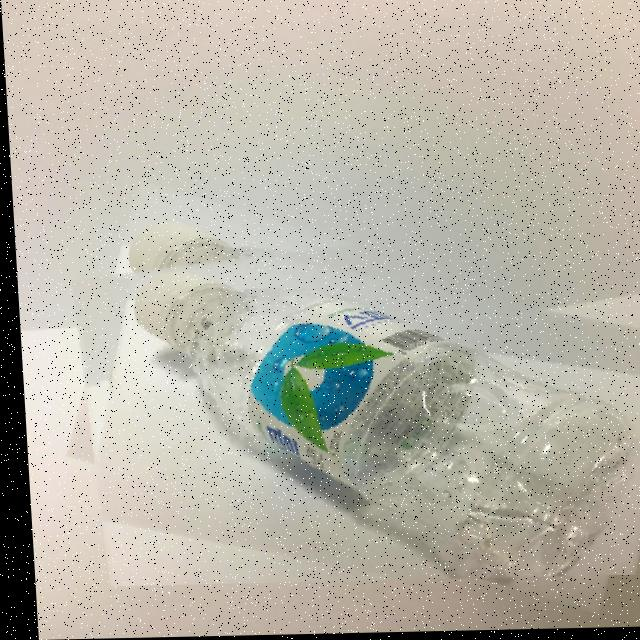plasticbottle: (64, 210, 640, 587)
plasticbottlecap: (80, 281, 183, 367)
